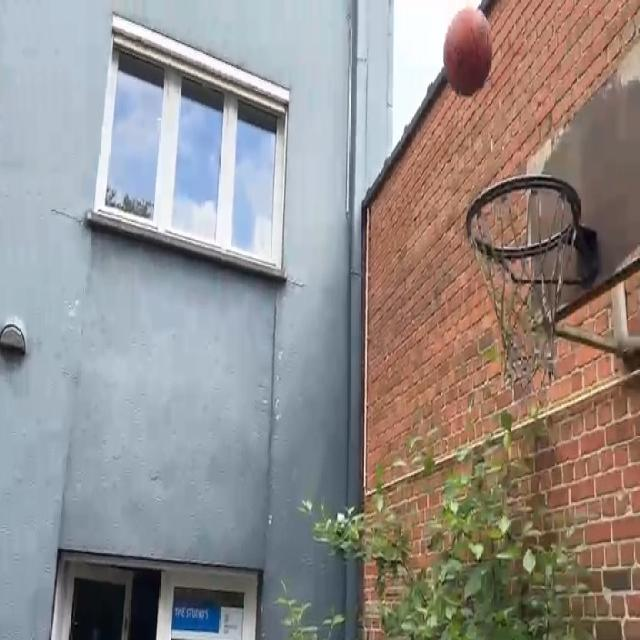Basketball: (444, 7, 493, 96)
